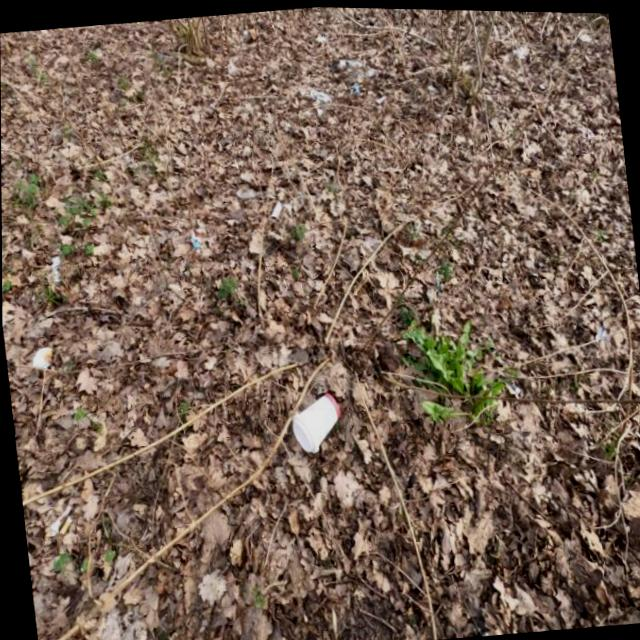Cup: (279, 382, 351, 461)
